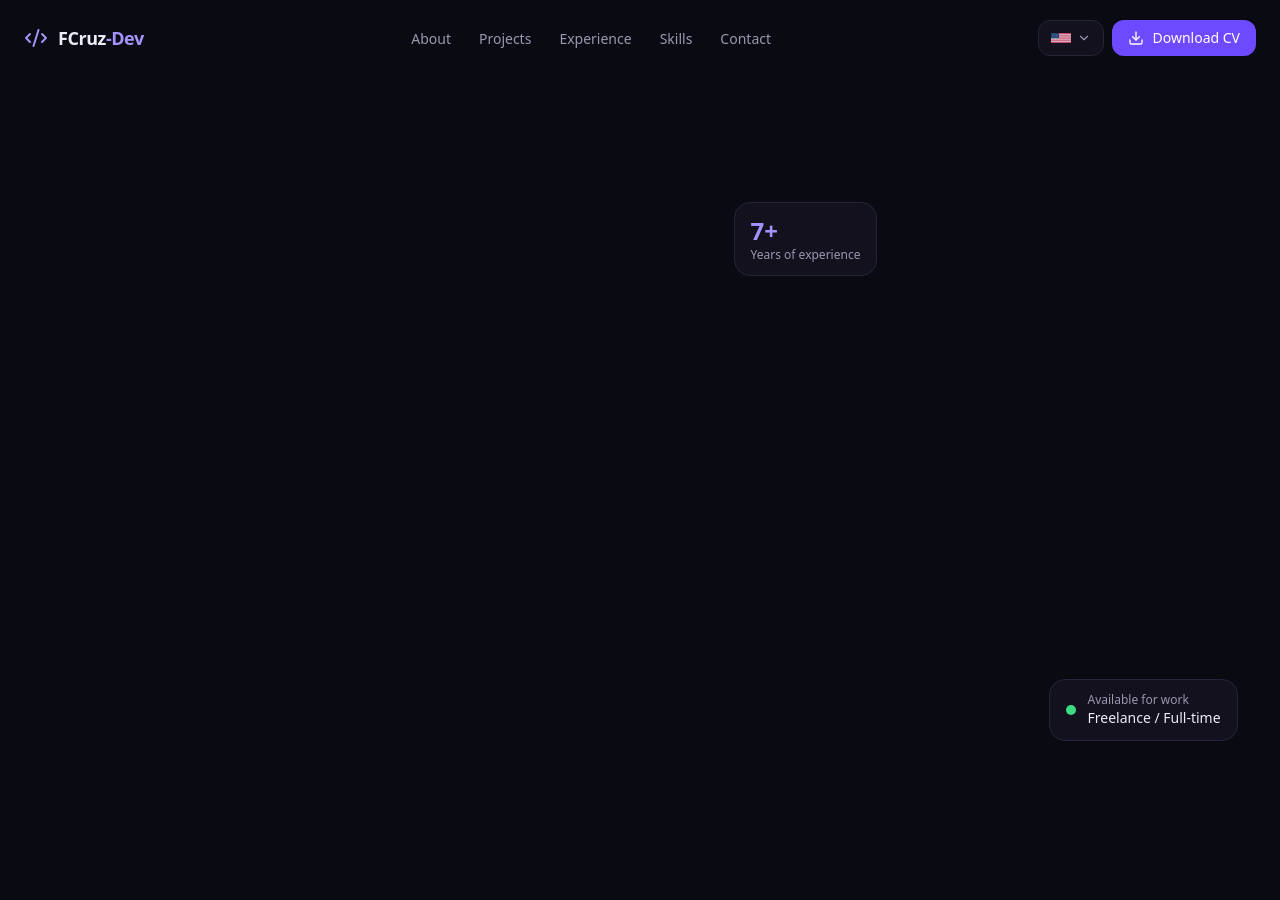
Test: languages by region › still offers all three languages in Europe
Click the button.
click(1072, 38)  # box [1038, 20, 1104, 56]
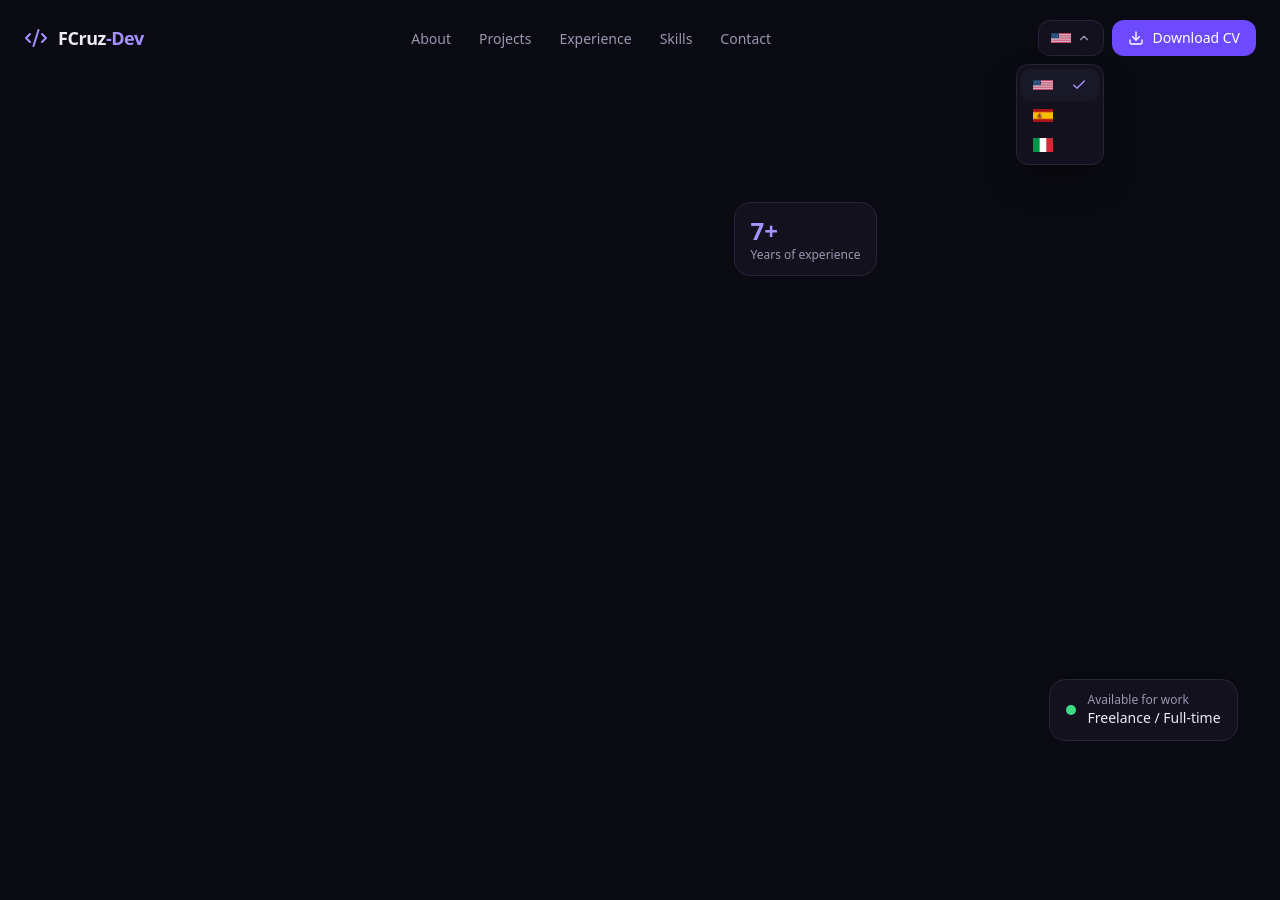
Check: the number of menu items is 3, box [1022, 69, 1100, 101]; [1022, 101, 1100, 130]; [1022, 130, 1100, 160]
